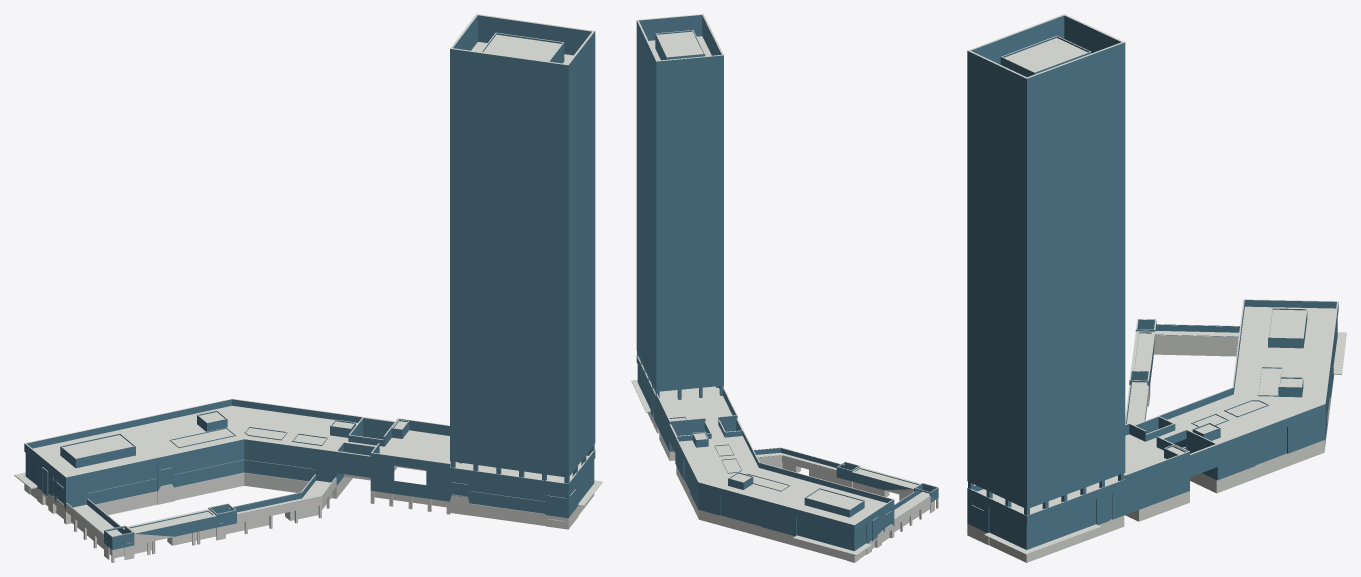
File: project-hospital.glb
The picture shows the model from 3 angles, left to right: view 1: azimuth 30°, elevation 25°; view 2: azimuth 150°, elevation 25°; view 3: azimuth 270°, elevation 25°; orthographic projection. The views are drawn at different scales.
Parts seen in each view (by area): view 1: 白模-584-A-glass, 白模-584-B-stone, 白模-584-B-glass, 白模-584-A-stone; view 2: 白模-584-A-glass, 白模-584-B-stone, 白模-584-B-glass, 白模-584-A-stone; view 3: 白模-584-A-glass, 白模-584-B-stone, 白模-584-B-glass, 白模-584-A-stone.
Boxes of the visible parts, x1=… form: 白模-584-A-glass: x1=427, y1=15, x2=595, y2=518; 白模-584-B-stone: x1=14, y1=398, x2=449, y2=562; 白模-584-B-glass: x1=24, y1=399, x2=469, y2=549; 白模-584-A-stone: x1=441, y1=14, x2=602, y2=529; 白模-584-A-glass: x1=636, y1=15, x2=723, y2=423; 白模-584-B-stone: x1=656, y1=388, x2=938, y2=562; 白模-584-B-glass: x1=656, y1=388, x2=938, y2=551; 白模-584-A-stone: x1=631, y1=14, x2=726, y2=433; 白模-584-A-glass: x1=967, y1=15, x2=1125, y2=549; 白模-584-B-stone: x1=1114, y1=299, x2=1346, y2=521; 白模-584-B-glass: x1=1125, y1=300, x2=1338, y2=514; 白模-584-A-stone: x1=967, y1=14, x2=1124, y2=562.
Size of the model in its own units: 72.59 by 73.91 by 52.29.
